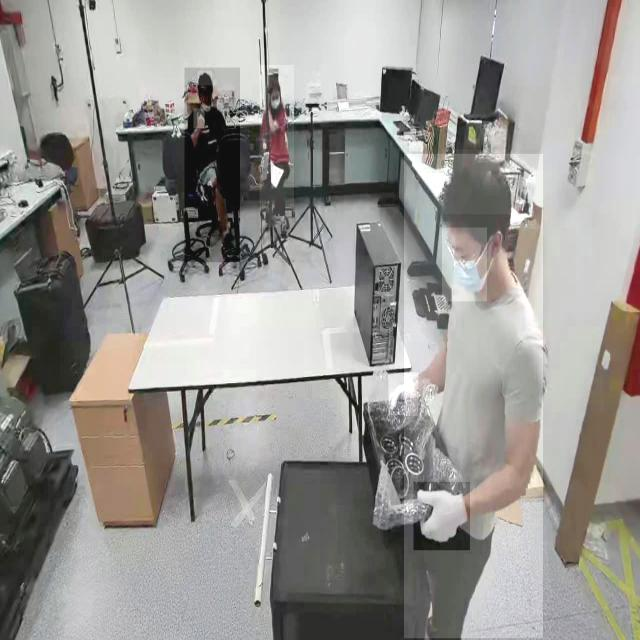face_mask: (442, 228, 487, 302), (268, 90, 281, 114)
face_nomask: (199, 88, 212, 107)
hand_glove: (414, 482, 471, 551), (388, 372, 418, 416)
hand_noglove: (193, 108, 205, 129)
head_nohelmet: (441, 149, 511, 215), (198, 71, 212, 86), (265, 76, 280, 89)
person: (404, 154, 544, 639), (184, 68, 240, 263), (260, 65, 294, 228)
